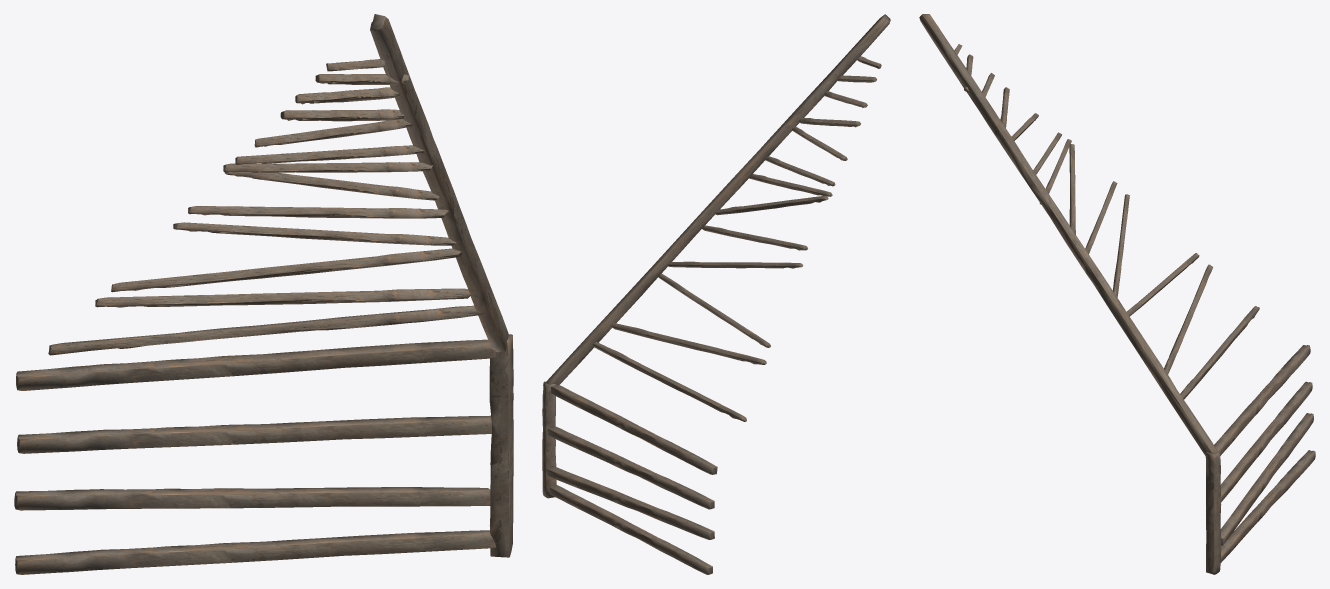
The model's file is Tent_P_WoodenStand04.FBX.
3 renders of one model, left to right at view 1: azimuth 30°, elevation 25°; view 2: azimuth 150°, elevation 25°; view 3: azimuth 270°, elevation 25°, orthographic. The views are drawn at different scales.
Parts seen in each view (by area): view 1: Tent_P_WoodenStand04; view 2: Tent_P_WoodenStand04; view 3: Tent_P_WoodenStand04.
Part boxes in pixels (box(x1,y1,x2,y2)): Tent_P_WoodenStand04: box(14, 14, 513, 574); Tent_P_WoodenStand04: box(542, 14, 890, 574); Tent_P_WoodenStand04: box(919, 14, 1315, 574).
Bounding box in the file's own units: 940 × 1728 × 1363.
